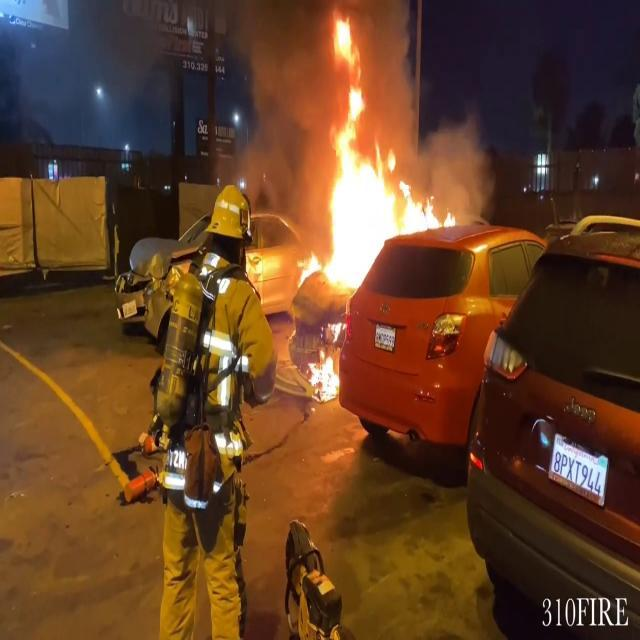Fire: (295, 19, 457, 292), (306, 328, 350, 405)
Smoke: (226, 1, 340, 168)
